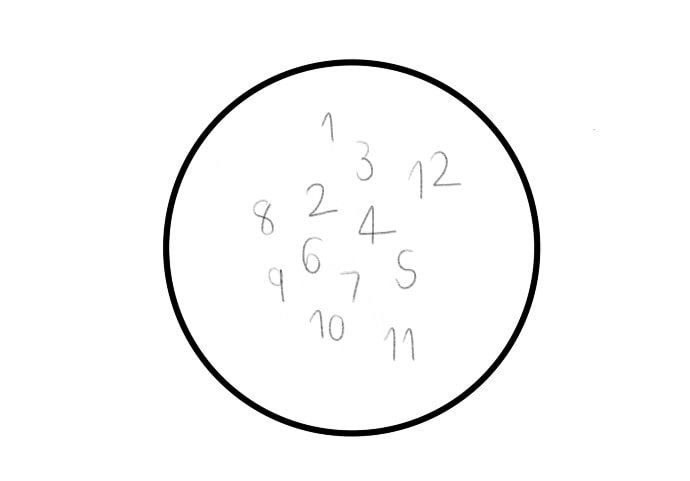eight: (249, 196, 275, 239)
eleven: (381, 324, 418, 363)
five: (396, 243, 418, 296)
four: (357, 202, 397, 247)
nine: (266, 260, 289, 305)
one: (320, 108, 338, 146)
seven: (337, 266, 361, 305)
six: (300, 233, 324, 277)
ten: (309, 307, 347, 348)
three: (354, 138, 374, 184)
twelve: (408, 150, 461, 199)
two: (304, 180, 338, 220)
